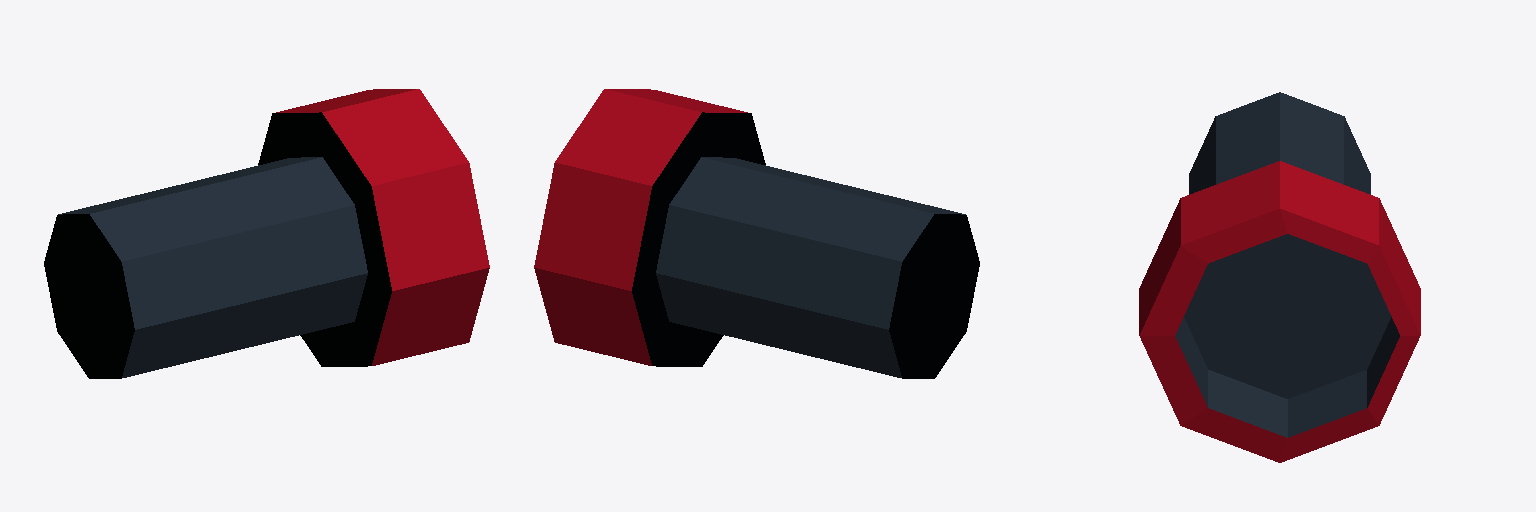
Rendered from boom_cannon.obj.
The picture shows the model from 3 angles: view 1: azimuth 30°, elevation 25°; view 2: azimuth 150°, elevation 25°; view 3: azimuth 270°, elevation 25°; orthographic projection.
Parts seen in each view (by area): view 1: Cube; view 2: Cube; view 3: Cube.
Part boxes in pixels (left/top/right/bottom): Cube: left=44, top=89, right=489, bottom=378; Cube: left=534, top=89, right=979, bottom=378; Cube: left=1139, top=92, right=1420, bottom=462.
Size of the model in its own units: 0.3141 by 0.2296 by 0.2296.